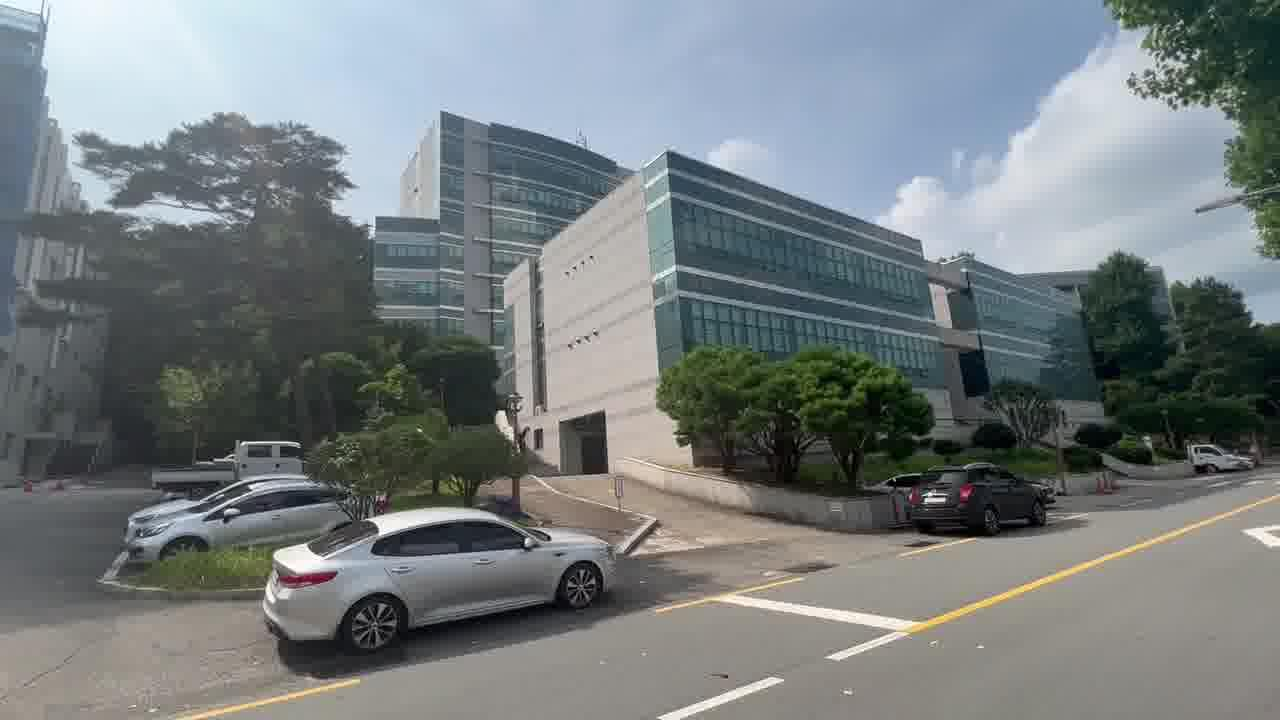building: (381, 133, 1101, 406)
